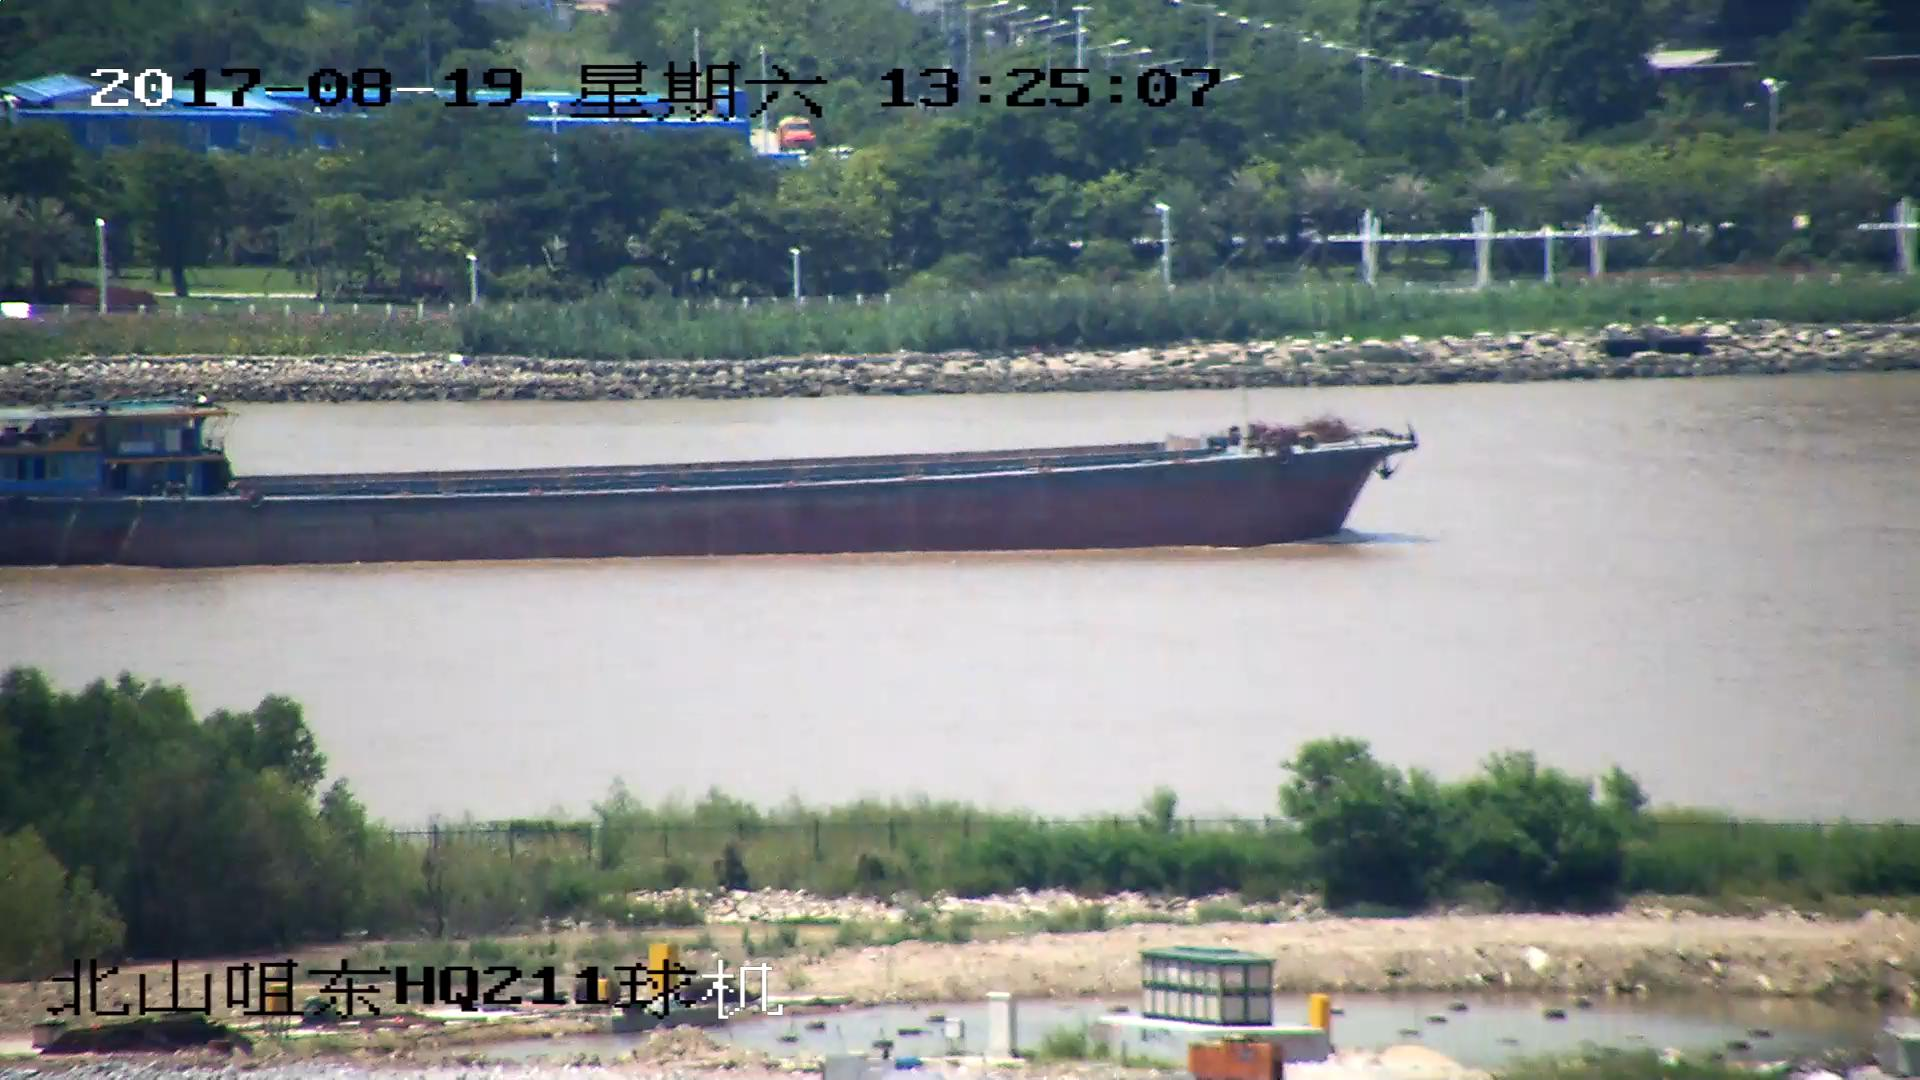bulk cargo carrier: (1, 395, 1413, 569)
